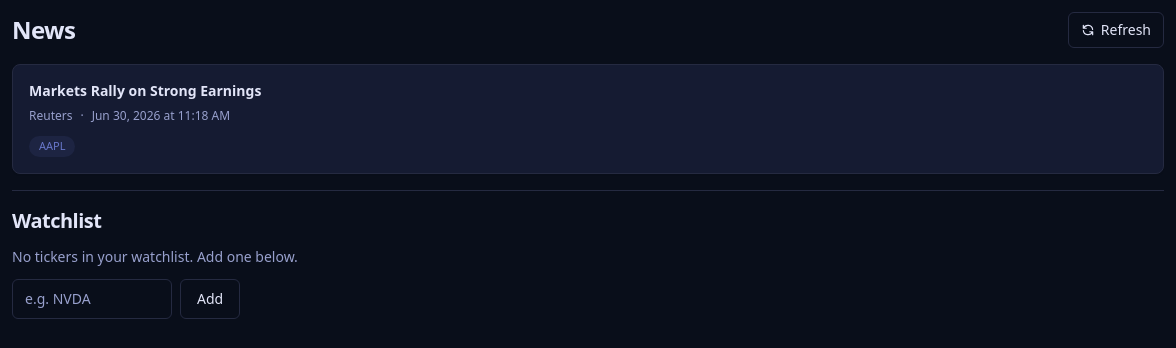
it: News tab › shows the newly added ticker in the watchlist after adding
The width and height of the screenshot is (1176, 348).
Step 1. Type "tsla" into the field named "ticker symbol to add to watchlist" → (92, 299), box 12,279 -> 172,319
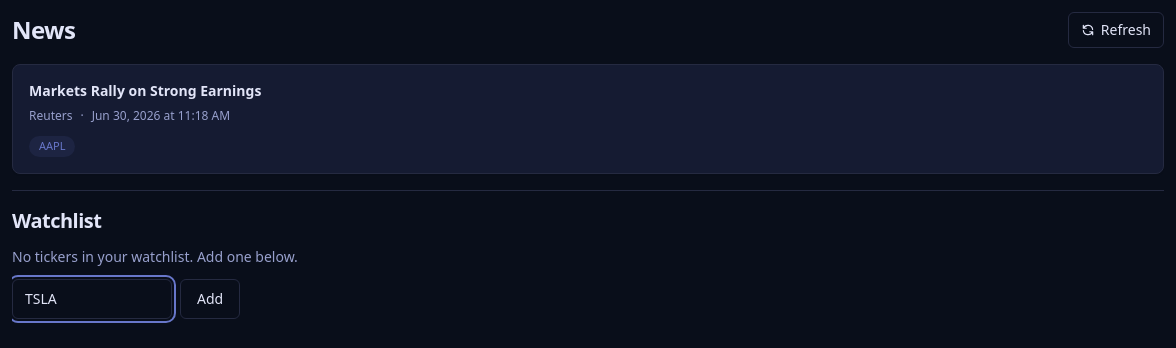
Step 2. Click the button "Add" → (210, 299), box 180,279 -> 240,319
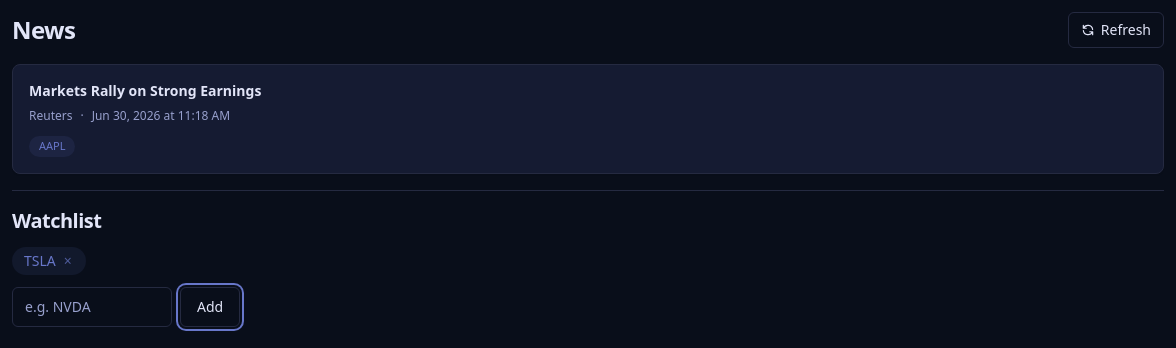
Now the text "TSLA" is shown, box 24,251 -> 56,270
